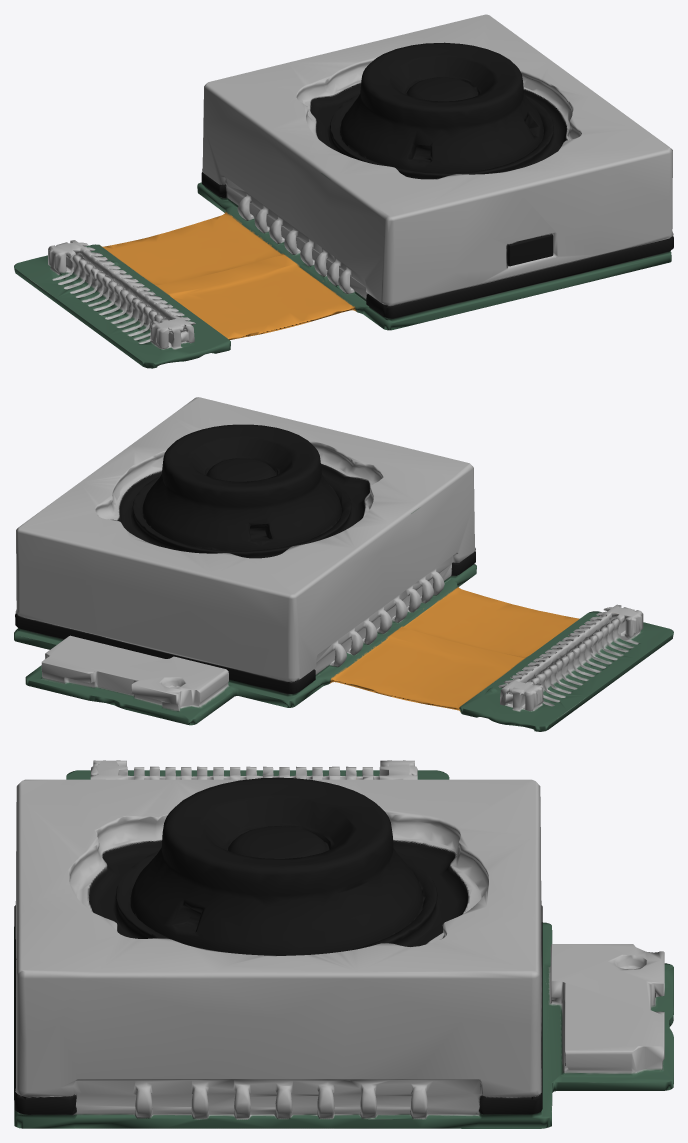
The model's file is camera_module.glb.
The picture shows the model from 3 angles, top to bottom: view 1: azimuth 30°, elevation 25°; view 2: azimuth 150°, elevation 25°; view 3: azimuth 270°, elevation 25°; orthographic projection. The views are drawn at different scales.
Parts seen in each view (by area): view 1: Cam; view 2: Cam; view 3: Cam.
Boxes of the visible parts, bbox=[...] form: Cam: bbox=[14, 14, 673, 368]; Cam: bbox=[14, 397, 673, 731]; Cam: bbox=[14, 760, 673, 1128].
Size of the model in its own units: 0.9374 by 0.2649 by 0.7424.
1 material, 1 textured.
